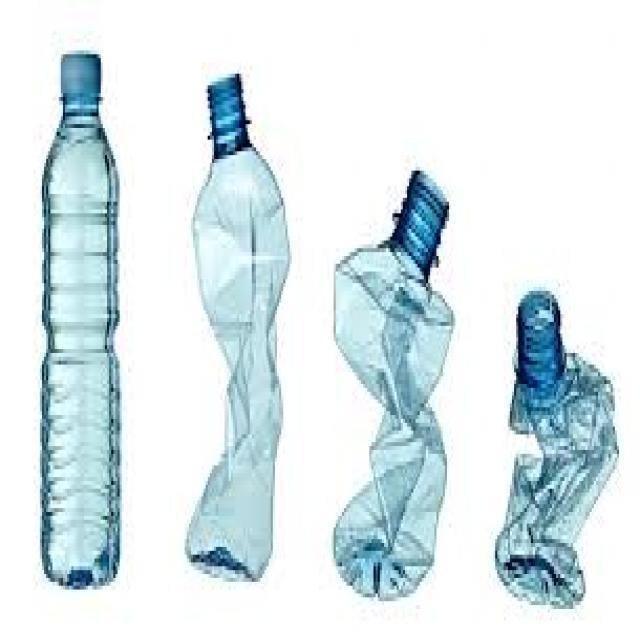Plastic: (188, 73, 292, 587), (334, 167, 452, 602), (41, 54, 120, 592), (494, 279, 619, 613)
